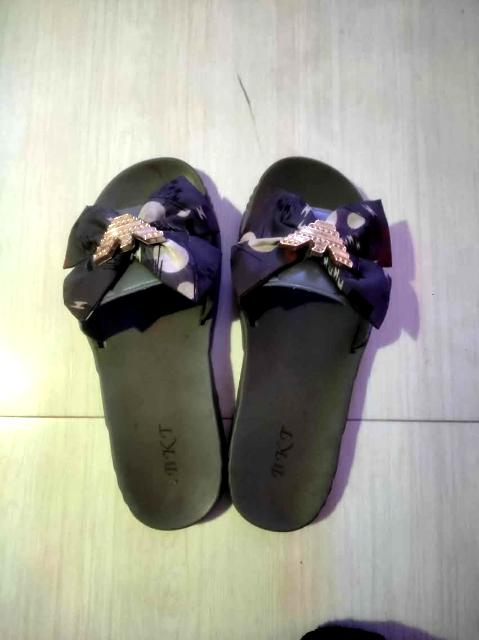sandal: (59, 155, 415, 540)
